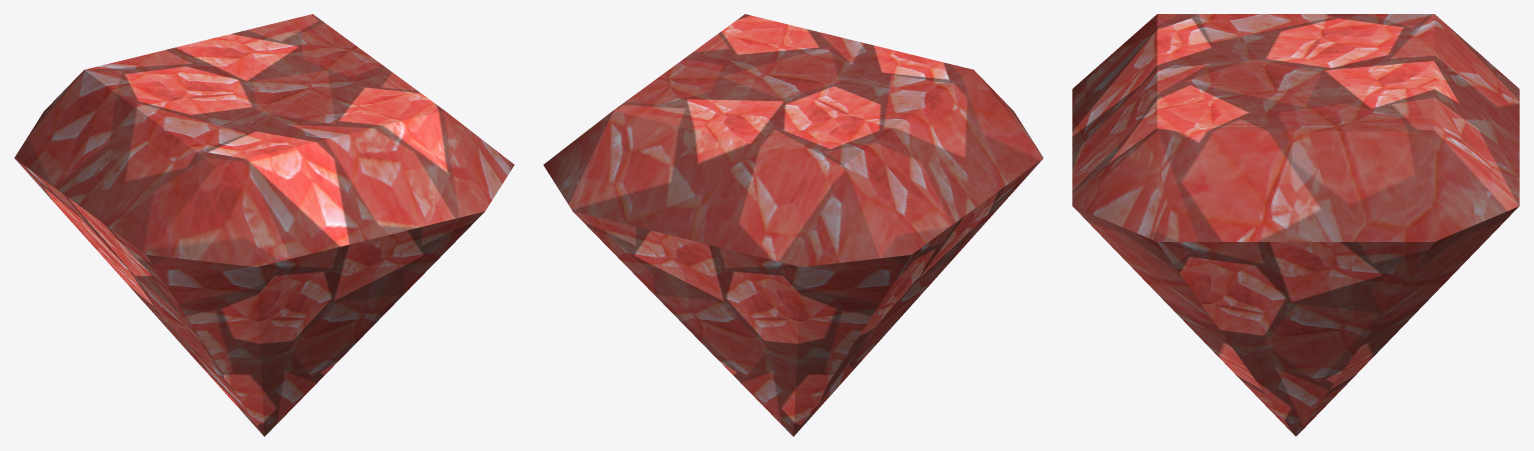
File: p2_gem_red.fbx
The picture shows the model from 3 angles, left to right: view 1: azimuth 30°, elevation 25°; view 2: azimuth 150°, elevation 25°; view 3: azimuth 270°, elevation 25°; orthographic projection. The views are drawn at different scales.
Parts seen in each view (by area): view 1: mesh; view 2: mesh; view 3: mesh.
Boxes of the visible parts, <box> form: mesh: <box>14,14,514,436</box>; mesh: <box>543,14,1043,436</box>; mesh: <box>1072,14,1519,436</box>.
Bounding box in the file's own units: 39.86 × 35.84 × 39.86.
